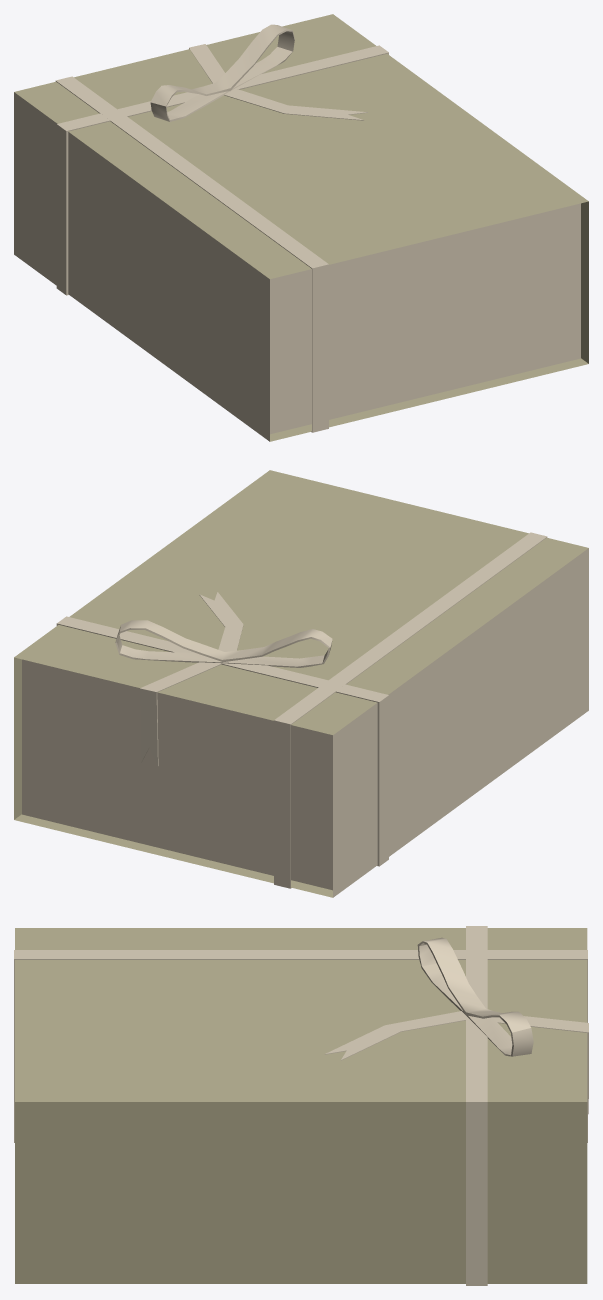
File: platia.fbx
3 views of the same model, one above another, from view 1: azimuth 30°, elevation 25°; view 2: azimuth 150°, elevation 25°; view 3: azimuth 270°, elevation 25° (orthographic). The views are drawn at different scales.
Parts seen in each view (by area): view 1: Cube.004, Cube.005, Plane, Plane.001, Plane.002; view 2: Cube.004, Cube.005, Plane, Plane.002, Plane.001; view 3: Cube.004, Cube.005, Plane, Plane.001, Plane.002.
Boxes of the visible parts, x1,y1,x2,y2 form: Cube.004: (14,14,588,441); Cube.005: (55,76,328,432); Plane: (150,24,294,121); Plane.001: (224,89,367,120); Plane.002: (189,44,224,83); Cube.004: (14,470,588,897); Cube.005: (274,532,547,888); Plane: (115,620,332,667); Plane.002: (140,662,221,765); Plane.001: (199,592,243,651); Cube.004: (15,926,587,1285); Cube.005: (14,950,587,1142); Plane: (417,937,533,1056); Plane.001: (324,1011,465,1060); Plane.002: (493,1016,588,1114).
Size of the model in its own units: 154 by 89.21 by 213.
